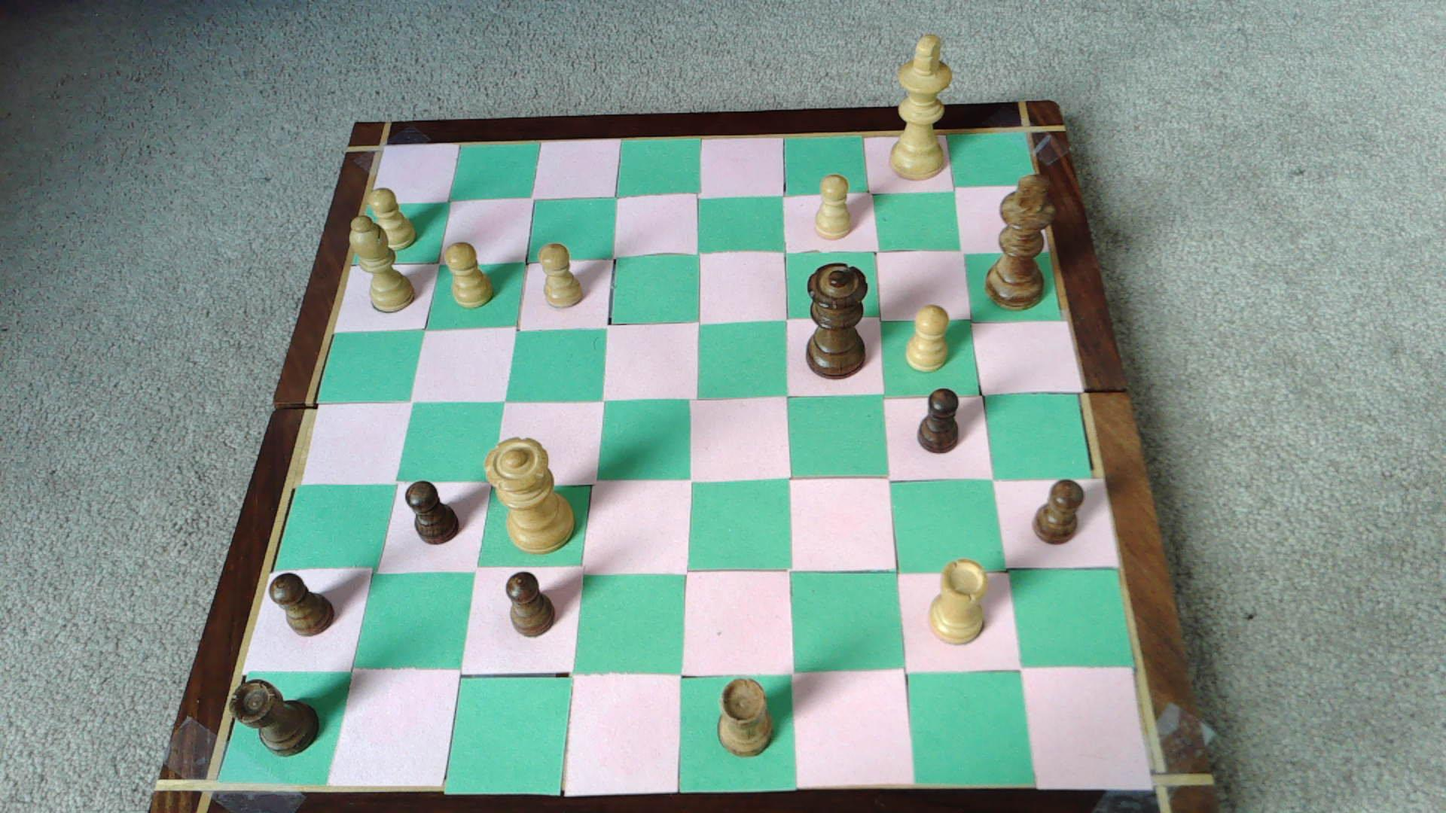dark_piece: (985, 174, 1058, 309), (807, 264, 867, 378), (231, 680, 319, 754), (718, 677, 773, 755), (270, 572, 335, 635), (406, 481, 459, 543), (1033, 481, 1084, 543), (506, 572, 555, 636), (918, 388, 959, 452)
white_piece: (485, 436, 575, 552), (889, 33, 953, 180), (349, 214, 416, 312), (930, 558, 986, 643), (444, 242, 494, 307), (367, 188, 416, 251), (539, 243, 584, 308), (906, 305, 949, 371), (814, 174, 852, 240)
